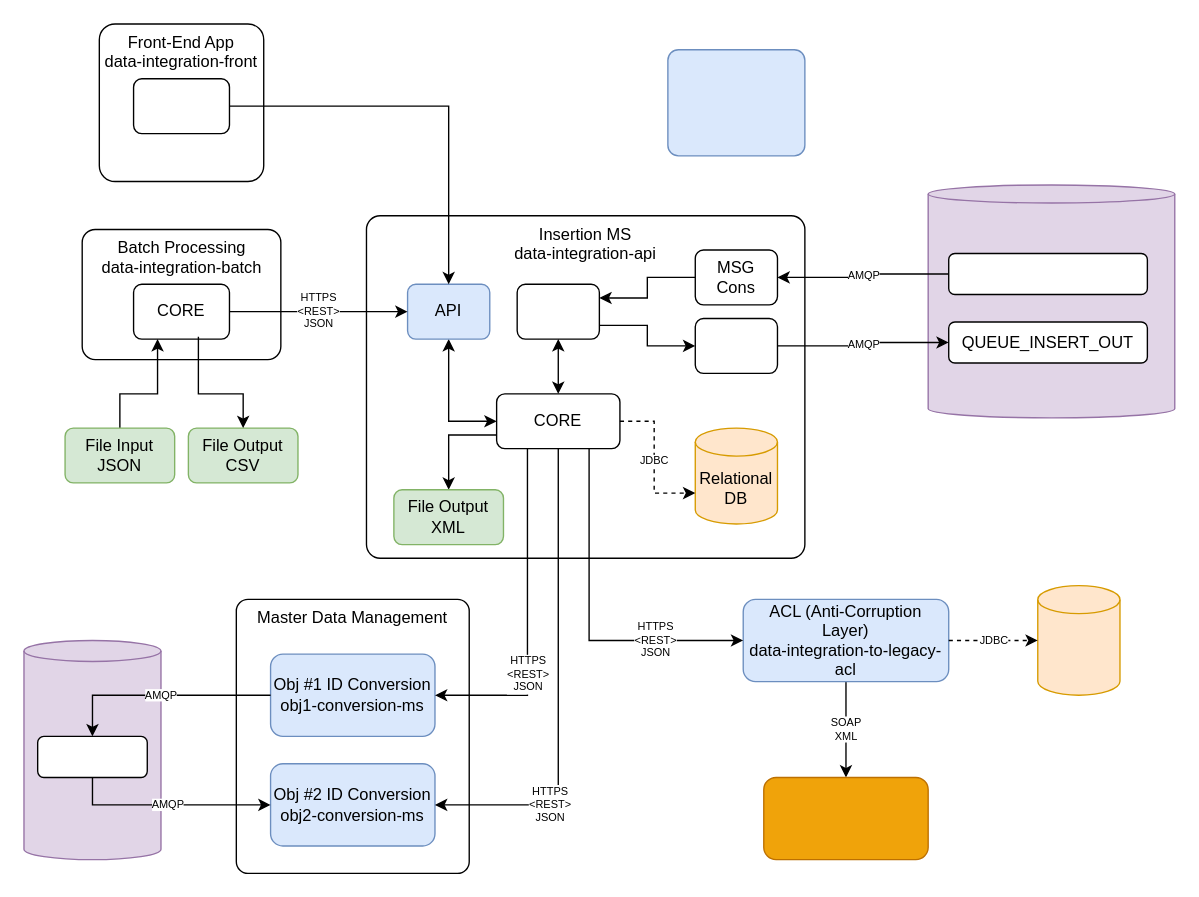
The diagram is 1199 pixels wide and 897 high, and some of its shapes have lost their labels. The centre of each missing label's shape, as x and y in pixels:
"Authentication & Authorization Management" belongs at point 736,102.
"Insertion Function" belongs at point 180,105.
"Legacy System legacy-system-api" belongs at point 845,818.
"MSG MGMT" belongs at point 557,311.
"MSG Prod" belongs at point 735,345.
"NoSQL DB" belongs at point 1078,639.
"QUEUE_INSERT_IN" belongs at point 1047,273.
"REP_IN_OUT" belongs at point 91,756.
